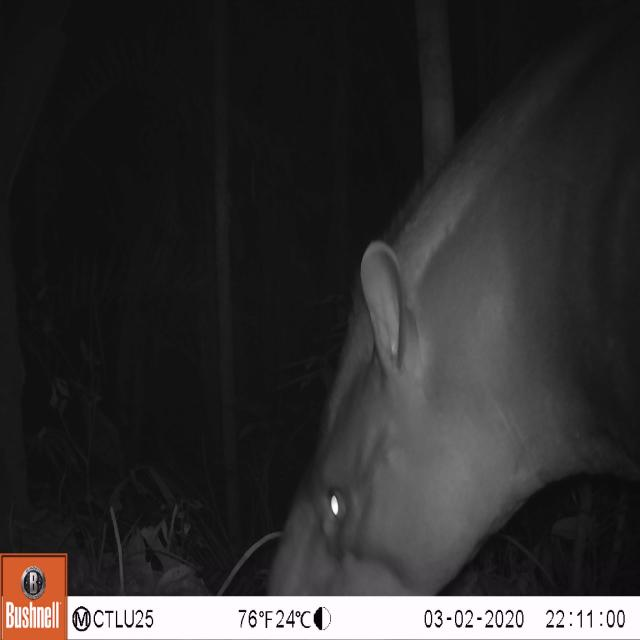Lowland Tapir: (269, 19, 640, 594)
